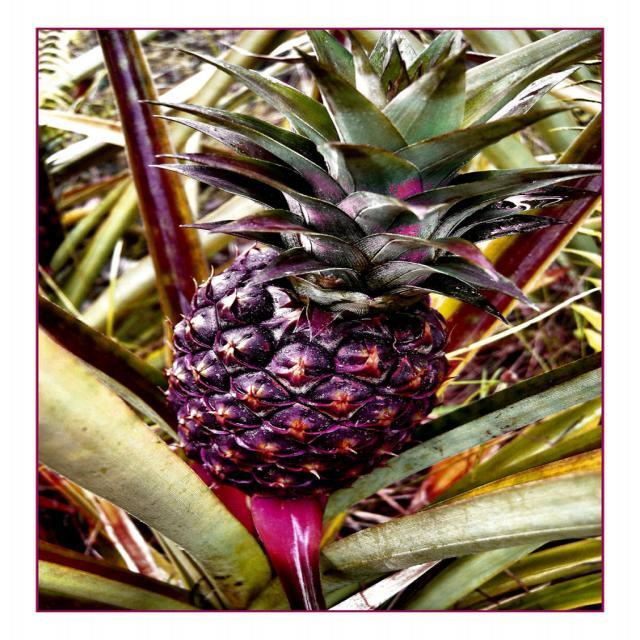Pineapple: (138, 21, 602, 499)
